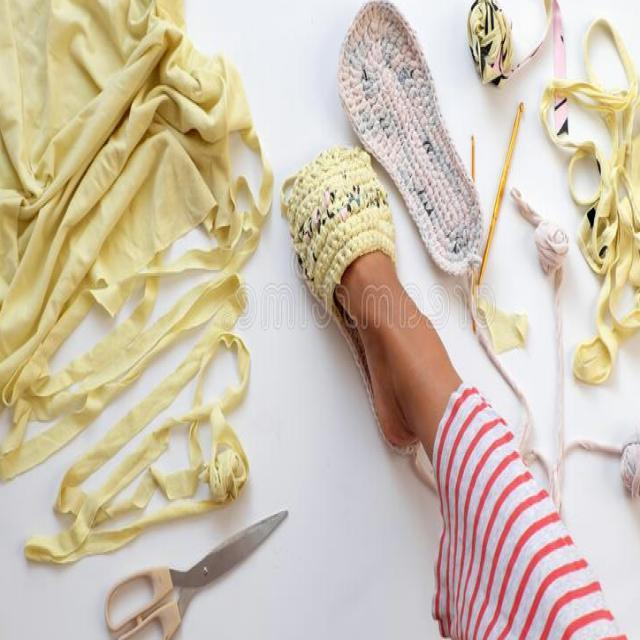clothes: (0, 0, 253, 511)
